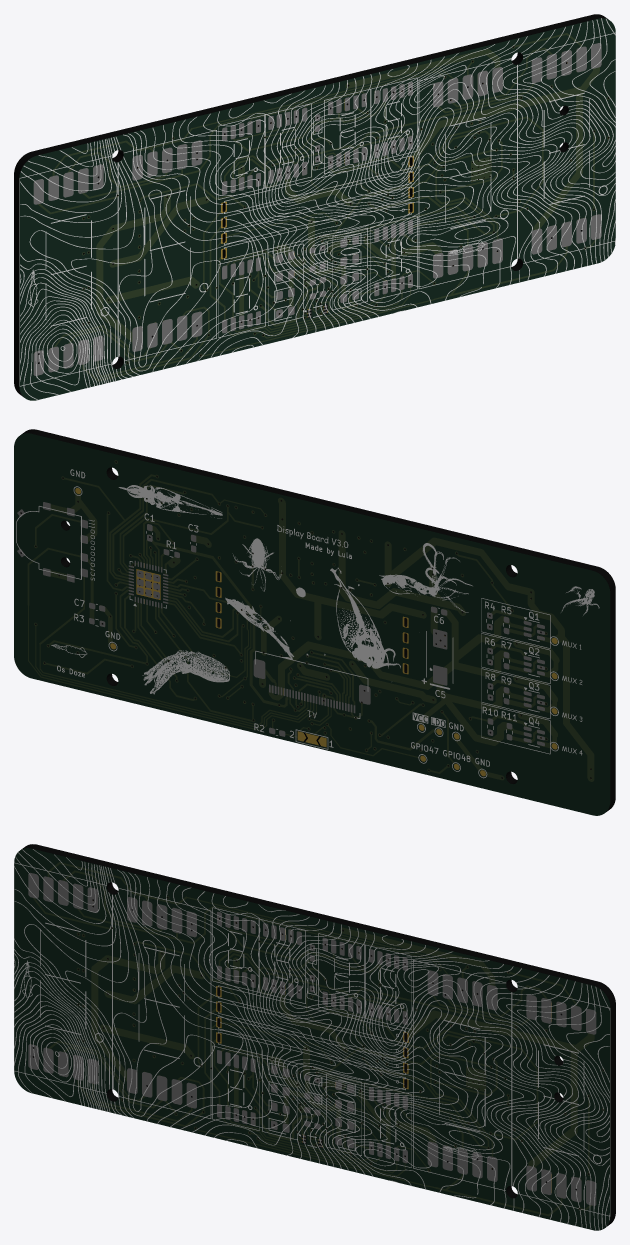
File: display-board-big-v3.0-bare.glb
3 views of the same model, one above another, from view 1: azimuth 30°, elevation 25°; view 2: azimuth 150°, elevation 25°; view 3: azimuth 330°, elevation 25° (orthographic).
Parts seen in each view (by area): view 1: SHAPE_5, SHAPE_1, SHAPE_9, SHAPE_4, SHAPE_3; view 2: SHAPE_5, SHAPE_1, SHAPE_3, SHAPE_9, SHAPE_4; view 3: SHAPE_5, SHAPE_1, SHAPE_9, SHAPE_4, SHAPE_3.
Part boxes in pixels (bbox=[...]): SHAPE_5: bbox=[19, 18, 615, 400]; SHAPE_1: bbox=[14, 14, 614, 399]; SHAPE_9: bbox=[19, 18, 615, 400]; SHAPE_4: bbox=[33, 43, 601, 375]; SHAPE_3: bbox=[39, 33, 608, 380]; SHAPE_5: bbox=[14, 433, 610, 815]; SHAPE_1: bbox=[14, 429, 615, 815]; SHAPE_3: bbox=[28, 460, 593, 781]; SHAPE_9: bbox=[16, 469, 599, 778]; SHAPE_4: bbox=[17, 502, 544, 746]; SHAPE_5: bbox=[14, 848, 610, 1230]; SHAPE_1: bbox=[15, 844, 615, 1229]; SHAPE_9: bbox=[14, 849, 610, 1230]; SHAPE_4: bbox=[28, 873, 596, 1205]; SHAPE_3: bbox=[33, 862, 604, 1215].
Bounding box in the file's own units: 0.102 × 0.04 × 0.00175.
